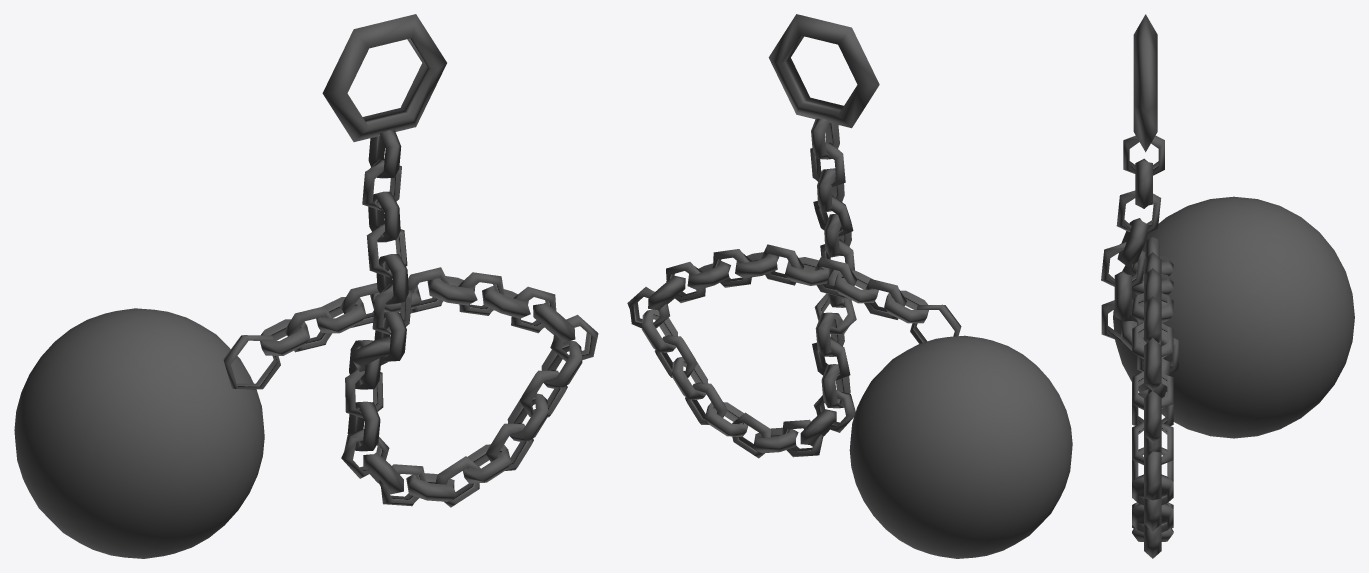
Rendered from metalChain.fbx.
3 views of the same model, side by side, from view 1: azimuth 30°, elevation 25°; view 2: azimuth 150°, elevation 25°; view 3: azimuth 270°, elevation 25° (orthographic). The views are drawn at different scales.
Parts seen in each view (by area): view 1: Sphere; view 2: Sphere; view 3: Sphere.
Part boxes in pixels (left/top/right/bottom): Sphere: left=14, top=14, right=598, bottom=558; Sphere: left=627, top=14, right=1072, bottom=558; Sphere: left=1101, top=14, right=1354, bottom=558.
Bounding box in the file's own units: 1444 × 1340 × 626.
